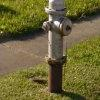Hydrant: (33, 0, 79, 100)
